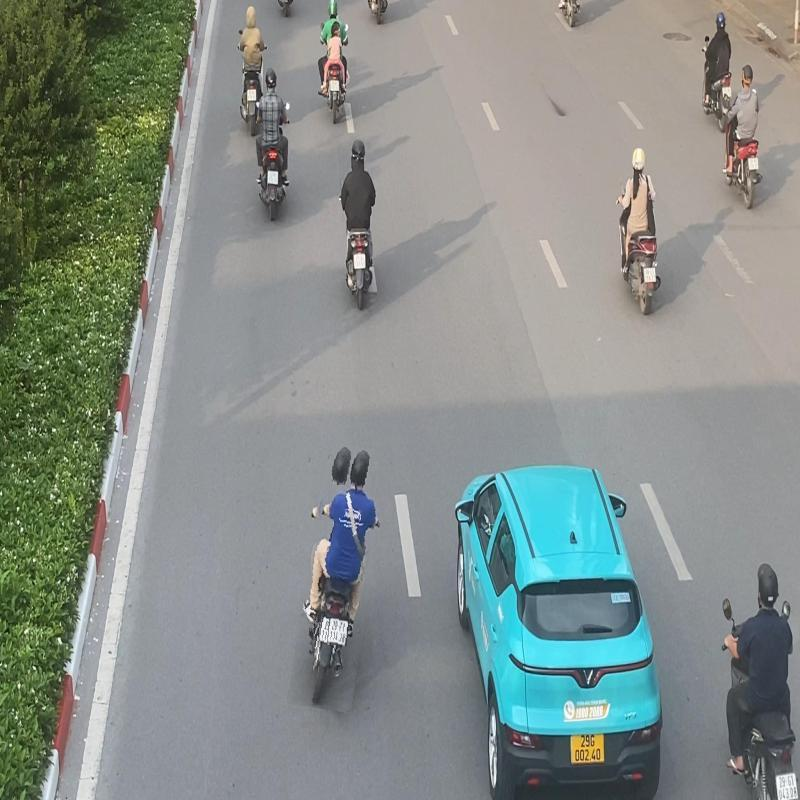helmet: (331, 447, 353, 486)
licenseplate: (328, 618, 348, 646)
motorcyclist: (296, 444, 381, 712)
